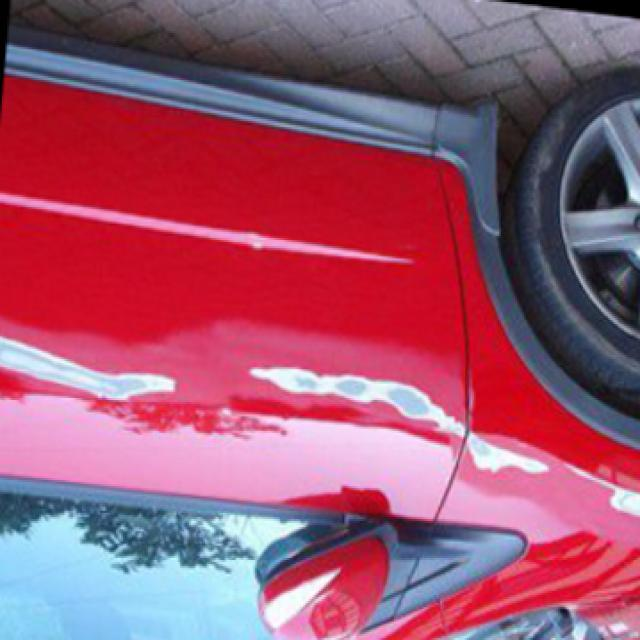scratch: (238, 348, 548, 493), (0, 327, 178, 396), (558, 447, 640, 521)
